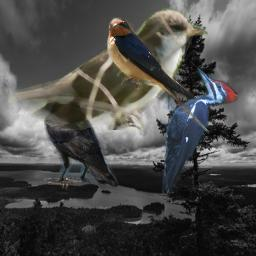Crow: (44, 84, 119, 190)
Cuckoo: (8, 8, 208, 130)
Swallow: (106, 17, 210, 134)
Woodpecker: (160, 63, 238, 199)
